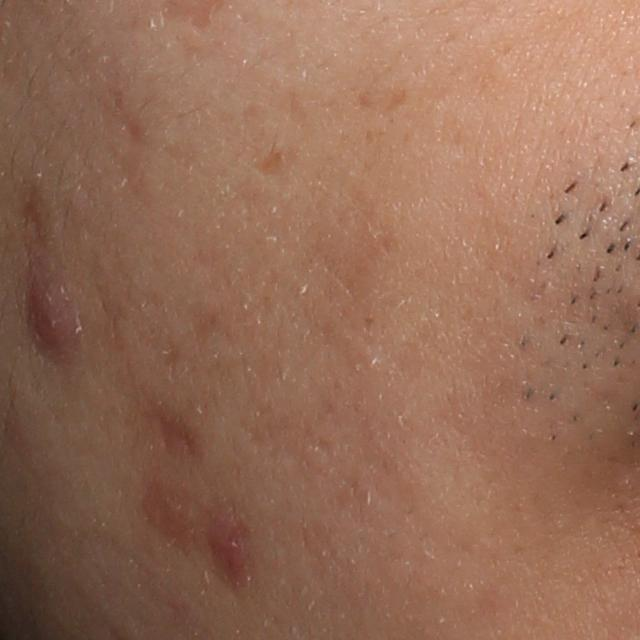atrophic_scar: (140, 470, 209, 558), (154, 411, 210, 465), (19, 177, 55, 245), (250, 152, 287, 179)
papule: (20, 280, 82, 360), (213, 536, 251, 590)
